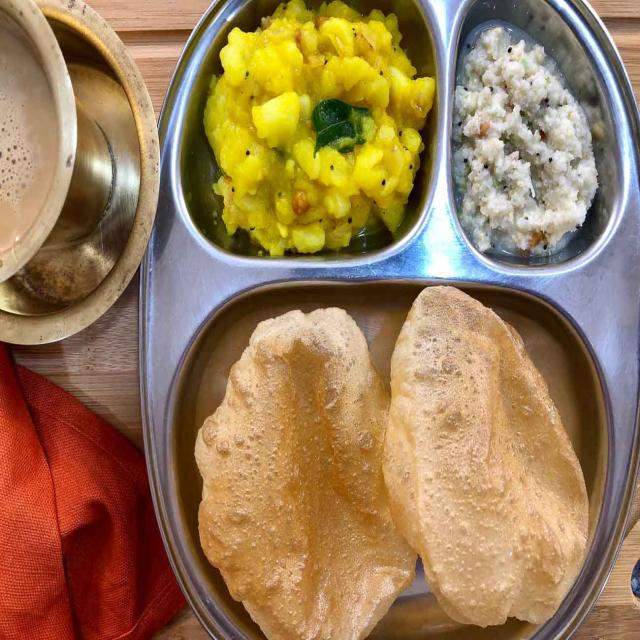poori: (380, 277, 601, 640), (184, 297, 410, 640)
